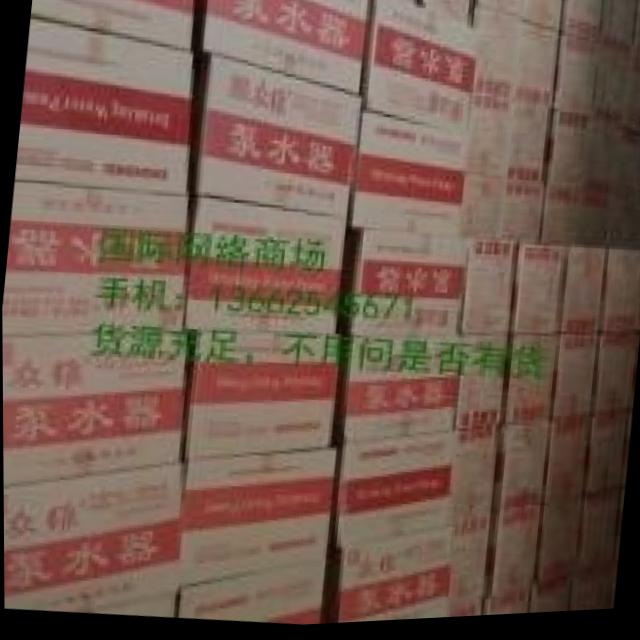box: (14, 16, 193, 196), (188, 54, 364, 221), (2, 179, 188, 333), (2, 333, 184, 487), (3, 465, 183, 613), (184, 196, 349, 337), (180, 451, 335, 590), (183, 333, 337, 465), (193, 0, 371, 96), (361, 0, 481, 141), (325, 436, 460, 553), (351, 111, 470, 243), (330, 339, 463, 448), (337, 233, 467, 339), (318, 535, 453, 627), (177, 564, 324, 628), (469, 10, 558, 114), (30, 0, 195, 56), (467, 103, 550, 184), (458, 176, 547, 251), (478, 514, 542, 604), (454, 340, 513, 435), (460, 240, 516, 340), (489, 430, 550, 520), (500, 340, 559, 432), (450, 432, 497, 537), (542, 421, 594, 514), (513, 249, 565, 340), (531, 505, 583, 593), (556, 252, 607, 340), (554, 340, 602, 424), (446, 519, 489, 610), (591, 342, 639, 421), (586, 421, 628, 505), (599, 255, 640, 339), (478, 0, 562, 36), (85, 593, 180, 619), (399, 598, 484, 624), (421, 0, 472, 33), (387, 0, 420, 9)
